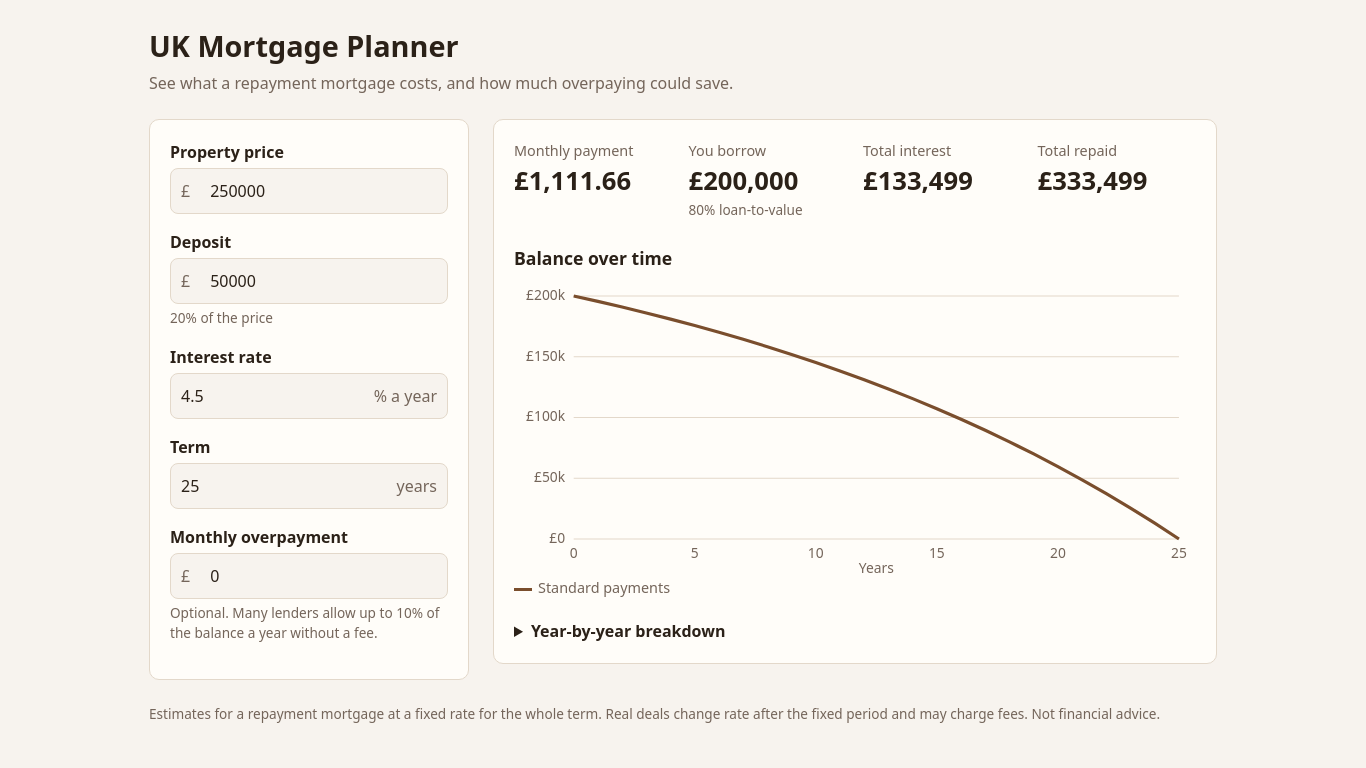
Test case: App › updates the results and the URL as you type
Replace the text in the number field labelled "Deposit" with "100000" at (324, 281), box left=200, top=259, right=447, bottom=303
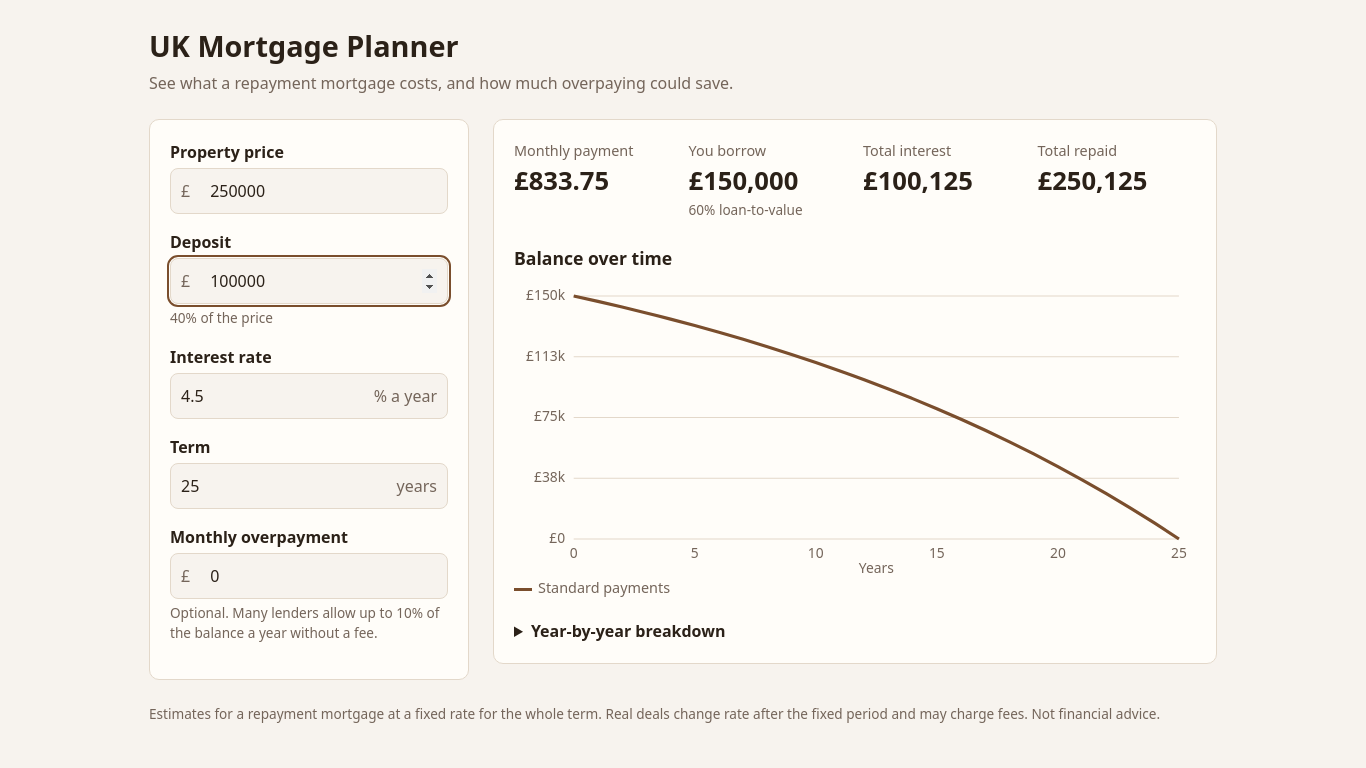
Expected: the element named "Results" shows "60% loan-to-value", left=688, top=200, right=803, bottom=219
